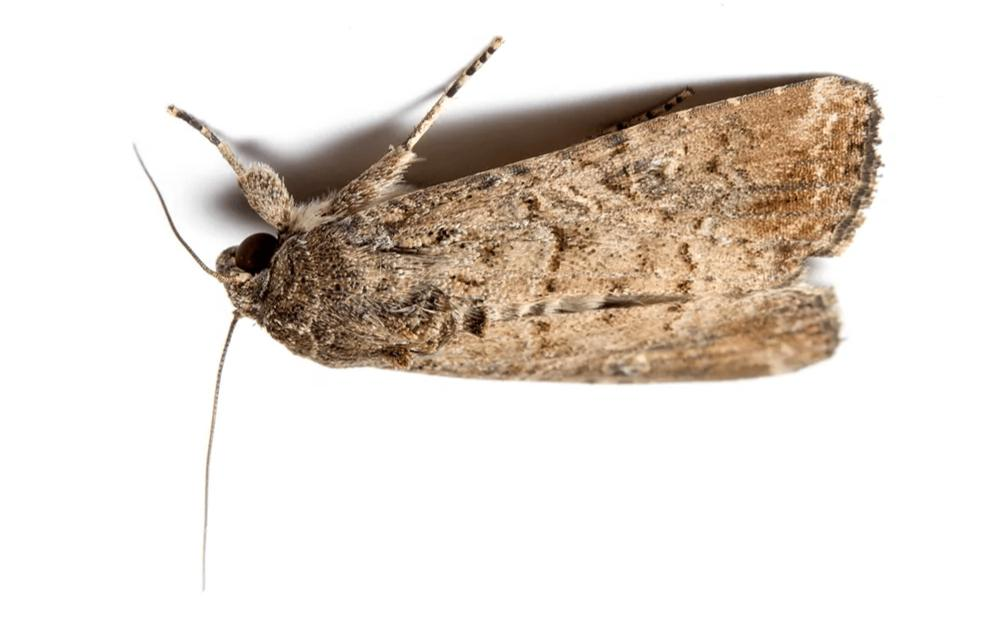army worm adult: (89, 26, 896, 598)
